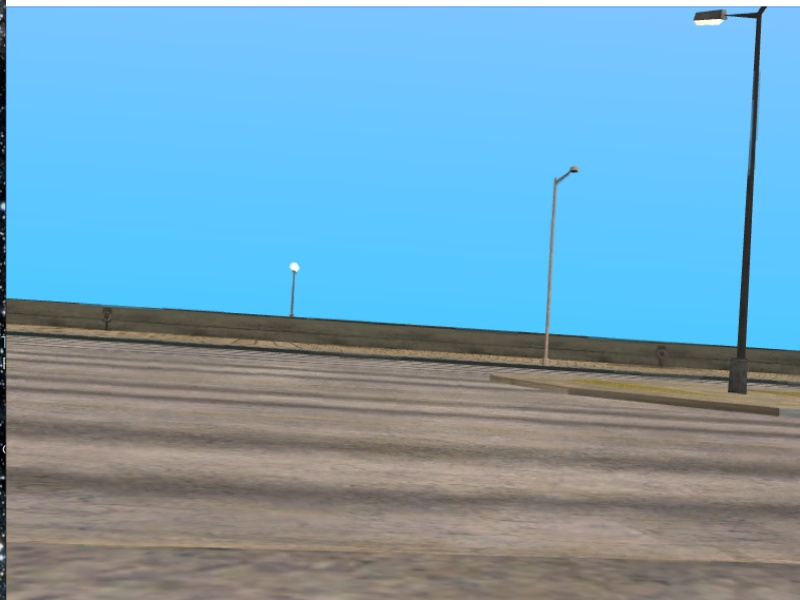pole: (727, 27, 758, 393), (546, 181, 557, 373)
